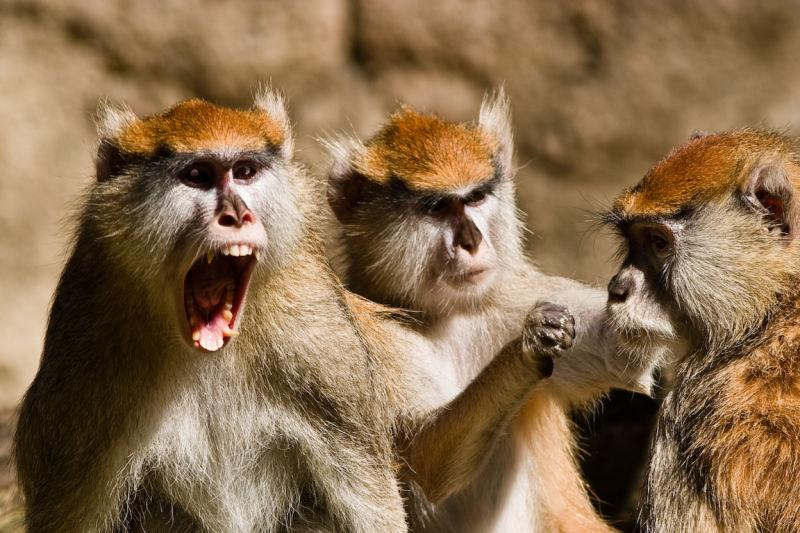monkey: (15, 87, 612, 533)
